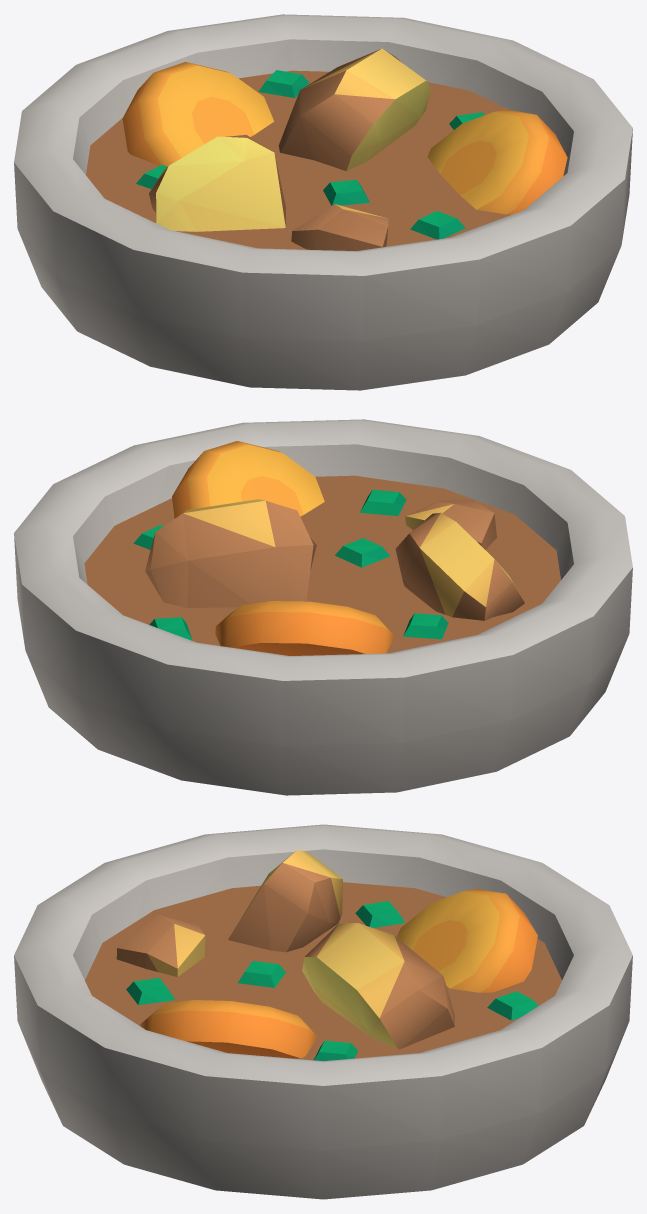
File: kaykit_restaurant_food_stew.glb
3 renders of one model, top to bottom at view 1: azimuth 30°, elevation 25°; view 2: azimuth 150°, elevation 25°; view 3: azimuth 270°, elevation 25°, orthographic.
Parts seen in each view (by area): view 1: stone, plaster, wood; view 2: stone, wood, plaster; view 3: stone, wood, plaster.
Part boxes in pixels (x1,y1,x2,y2): stone: [14, 14, 632, 390]; plaster: [122, 48, 567, 239]; wood: [86, 49, 512, 250]; stone: [14, 419, 632, 795]; wood: [84, 475, 560, 653]; plaster: [133, 441, 522, 655]; stone: [14, 824, 632, 1199]; wood: [85, 863, 561, 1060]; plaster: [126, 850, 538, 1060].
Size of the model in its own units: 0.95 by 0.3697 by 0.95.
